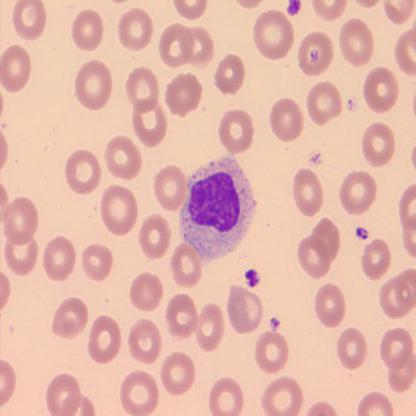NRC: (179, 154, 257, 261)
